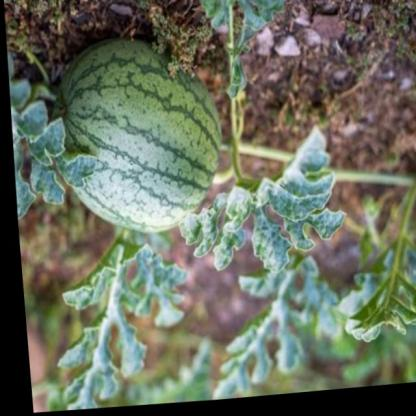watermelon: (42, 32, 226, 244)
